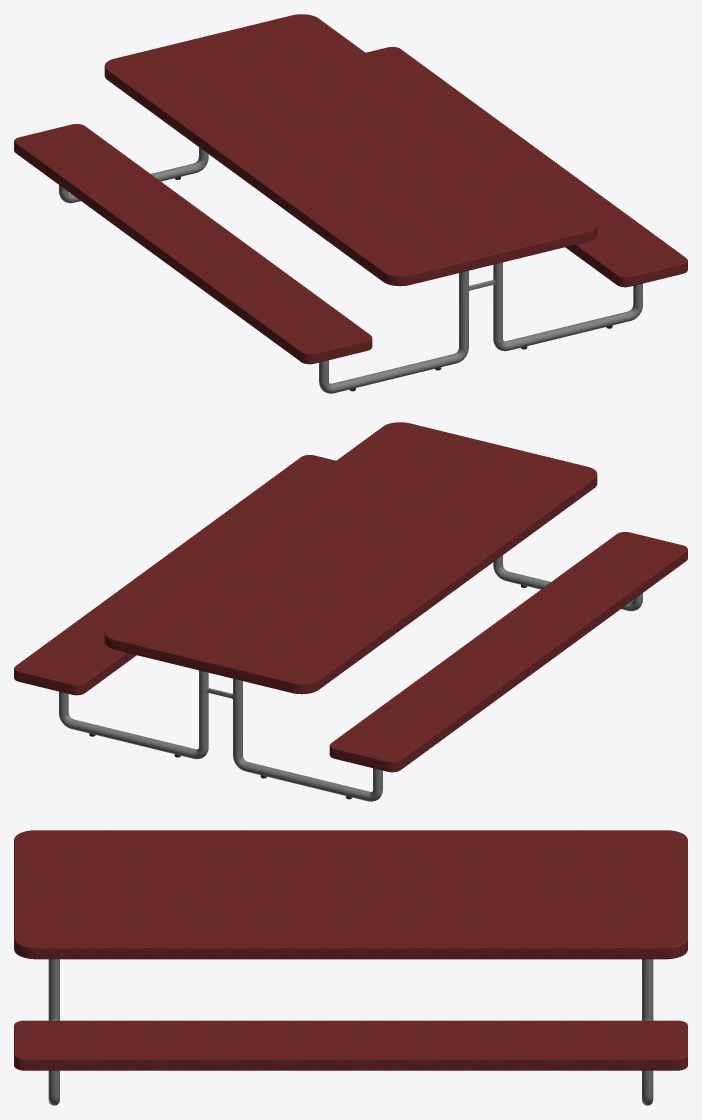
The picture shows the model from 3 angles, top to bottom: view 1: azimuth 30°, elevation 25°; view 2: azimuth 150°, elevation 25°; view 3: azimuth 270°, elevation 25°; orthographic projection. The views are drawn at different scales.
Parts seen in each view (by area): view 1: TABLE_TOP_Bralunit_PicNic_Table_0_7, TABLE_SEATS_Bralunit_PicNic_Table_0_5, METAL_LEGS_Bralunit_PicNic_Table_0_11, TABLE_TOP.001_Bralunit_PicNic_Table_0_16, TABLE_TOP.002_Bralunit_PicNic_Table_0_25; view 2: TABLE_TOP_Bralunit_PicNic_Table_0_7, TABLE_SEATS_Bralunit_PicNic_Table_0_5, METAL_LEGS_Bralunit_PicNic_Table_0_11, TABLE_TOP.001_Bralunit_PicNic_Table_0_16, TABLE_TOP.002_Bralunit_PicNic_Table_0_25; view 3: TABLE_TOP_Bralunit_PicNic_Table_0_7, TABLE_SEATS_Bralunit_PicNic_Table_0_5, TABLE_TOP.001_Bralunit_PicNic_Table_0_16, METAL_LEGS_Bralunit_PicNic_Table_0_11, TABLE_TOP.002_Bralunit_PicNic_Table_0_25.
Boxes of the visible parts, x1,y1,x2,y2 form: TABLE_TOP_Bralunit_PicNic_Table_0_7: [104, 14, 597, 286]; TABLE_SEATS_Bralunit_PicNic_Table_0_5: [14, 47, 687, 364]; METAL_LEGS_Bralunit_PicNic_Table_0_11: [59, 147, 642, 393]; TABLE_TOP.001_Bralunit_PicNic_Table_0_16: [106, 15, 596, 275]; TABLE_TOP.002_Bralunit_PicNic_Table_0_25: [107, 15, 595, 274]; TABLE_TOP_Bralunit_PicNic_Table_0_7: [104, 422, 597, 694]; TABLE_SEATS_Bralunit_PicNic_Table_0_5: [14, 455, 687, 772]; METAL_LEGS_Bralunit_PicNic_Table_0_11: [59, 555, 642, 801]; TABLE_TOP.001_Bralunit_PicNic_Table_0_16: [106, 423, 595, 683]; TABLE_TOP.002_Bralunit_PicNic_Table_0_25: [106, 423, 594, 682]; TABLE_TOP_Bralunit_PicNic_Table_0_7: [14, 830, 687, 959]; TABLE_SEATS_Bralunit_PicNic_Table_0_5: [14, 1020, 687, 1070]; TABLE_TOP.001_Bralunit_PicNic_Table_0_16: [15, 830, 686, 946]; METAL_LEGS_Bralunit_PicNic_Table_0_11: [48, 959, 653, 1105]; TABLE_TOP.002_Bralunit_PicNic_Table_0_25: [15, 830, 686, 945].
Bounding box in the file's own units: 2.26 × 0.6653 × 3.
Materials: 1 (1 with a texture image).
